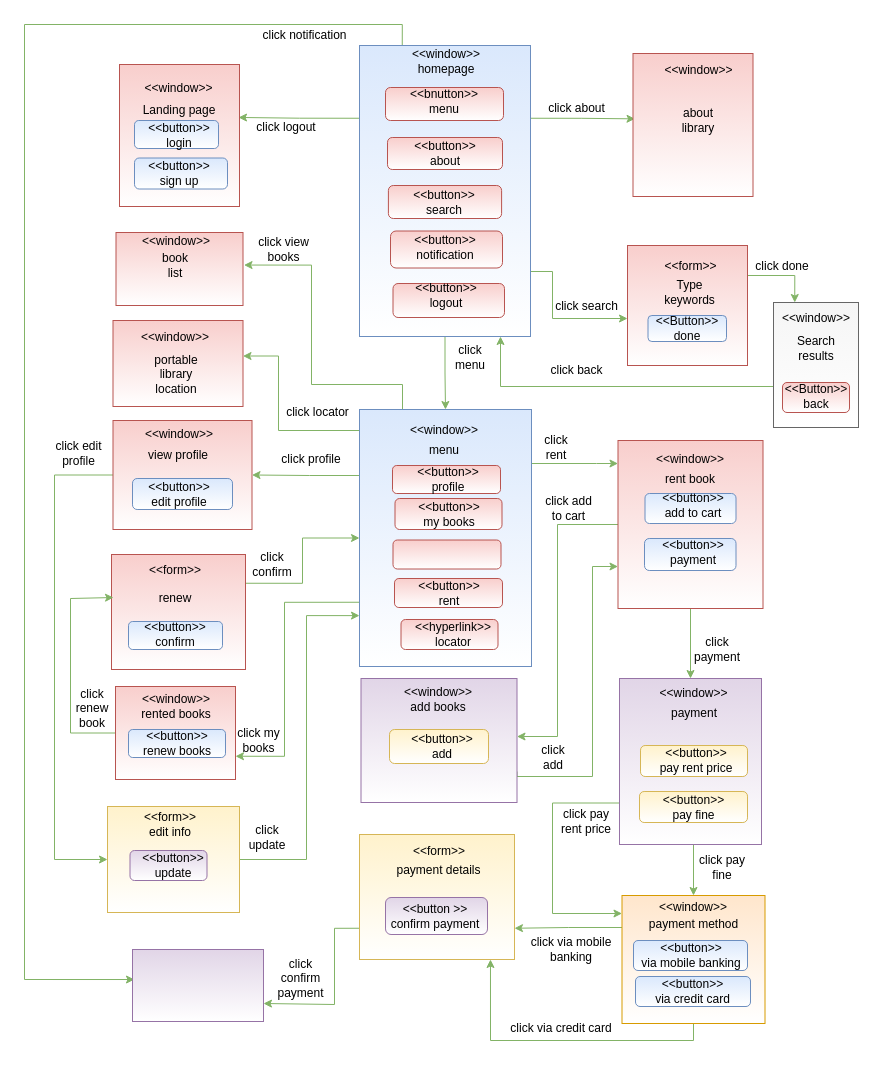
Image size: 876x1066. Some labels were removed from this diagram. Each missing label, with the centre of its shape:
<<button>> view books: the point at 446,554
<<window>> notification: the point at 198,985
